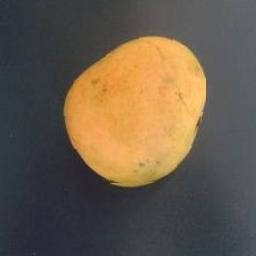Mango Fresh: (54, 31, 206, 185)
